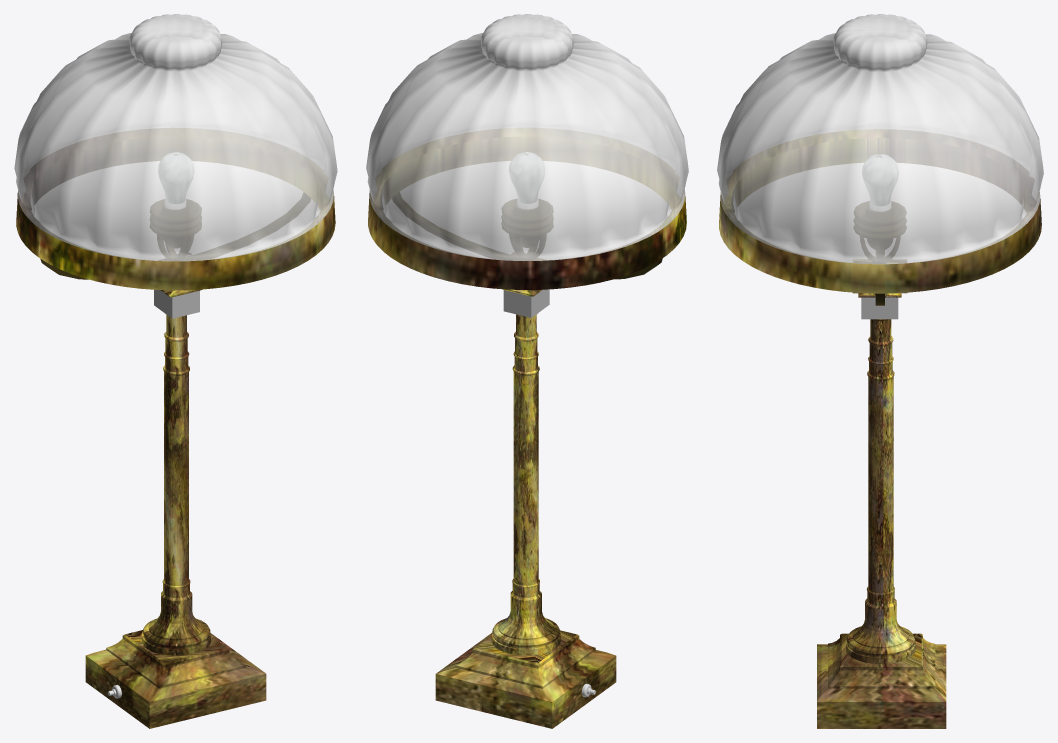
Rendered from luminaria_mesa_biblioteca.fbx.
The picture shows the model from 3 angles, left to right: view 1: azimuth 30°, elevation 25°; view 2: azimuth 150°, elevation 25°; view 3: azimuth 270°, elevation 25°; orthographic projection.
Visible parts, largest first — view 1: luminaria_mesa_biblioteca; view 2: luminaria_mesa_biblioteca; view 3: luminaria_mesa_biblioteca.
Boxes of the visible parts, x1=… form: luminaria_mesa_biblioteca: x1=14, y1=14, x2=337, y2=728; luminaria_mesa_biblioteca: x1=366, y1=14, x2=688, y2=728; luminaria_mesa_biblioteca: x1=717, y1=14, x2=1043, y2=728.
Size of the model in its own units: 199 by 450 by 199.
